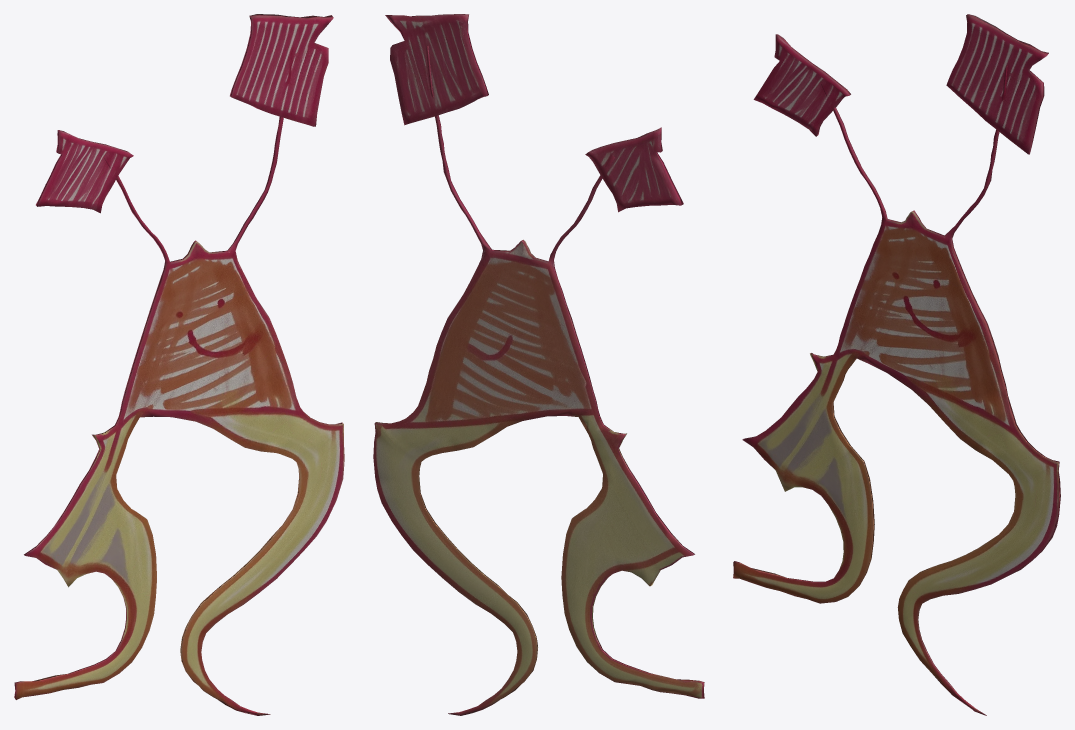
File: swinglet.glb
3 renders of one model, left to right at view 1: azimuth 30°, elevation 25°; view 2: azimuth 150°, elevation 25°; view 3: azimuth 330°, elevation 25°, orthographic.
Parts seen in each view (by area): view 1: mesh_node; view 2: mesh_node; view 3: mesh_node.
Boxes of the visible parts, left/top/right/bottom form: mesh_node: left=14, top=14, right=344, bottom=715; mesh_node: left=373, top=14, right=704, bottom=715; mesh_node: left=733, top=14, right=1060, bottom=715.
Size of the model in its own units: 0.4903 by 1 by 0.00665.
Materials: 1 (1 with a texture image).
